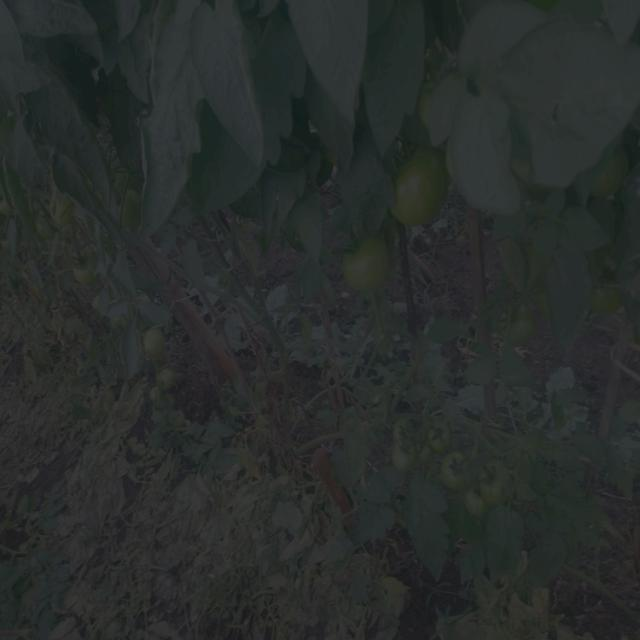tomato: (395, 146, 451, 224), (588, 140, 633, 208), (414, 74, 462, 133), (393, 413, 445, 467), (348, 238, 392, 299), (589, 273, 630, 326), (504, 152, 548, 200), (105, 184, 147, 232), (504, 297, 540, 349), (88, 293, 133, 328), (72, 253, 111, 285), (484, 461, 510, 502), (142, 327, 168, 357), (152, 364, 179, 392), (49, 196, 75, 225), (450, 451, 470, 486), (461, 494, 481, 518), (2, 194, 17, 224), (31, 218, 46, 240)
